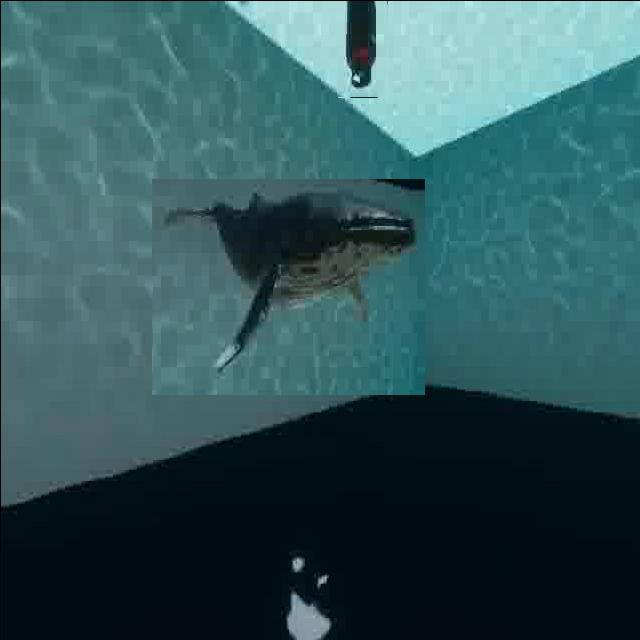Cylinder: (337, 0, 387, 97)
Whale: (151, 178, 424, 394)
